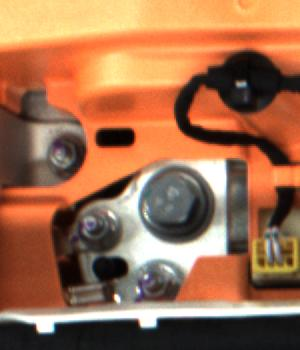screw_s: (76, 205, 121, 249), (136, 259, 183, 301), (46, 138, 82, 176)
